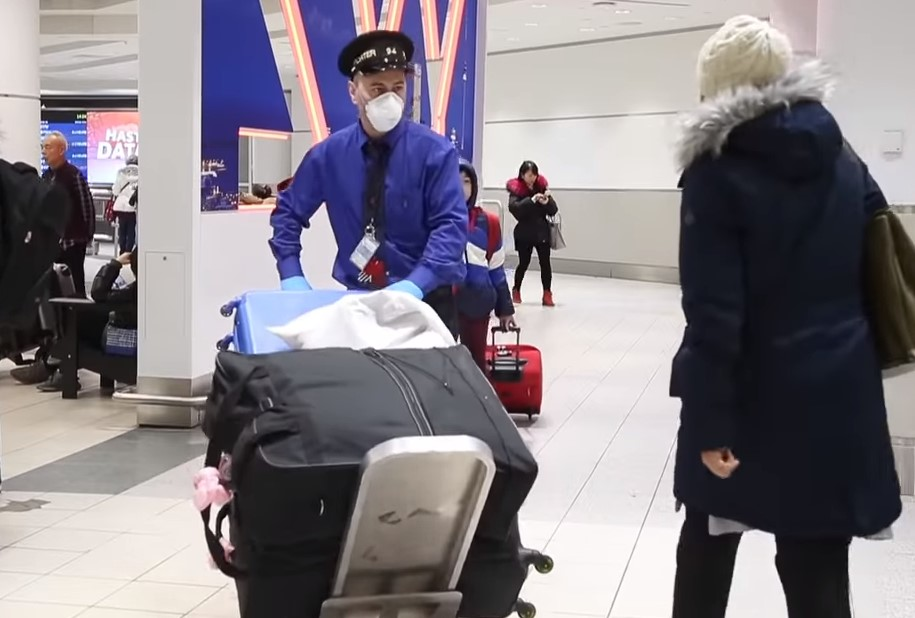face_no_mask: (40, 132, 68, 168), (518, 160, 538, 187)
face_with_mask: (337, 35, 413, 130)
